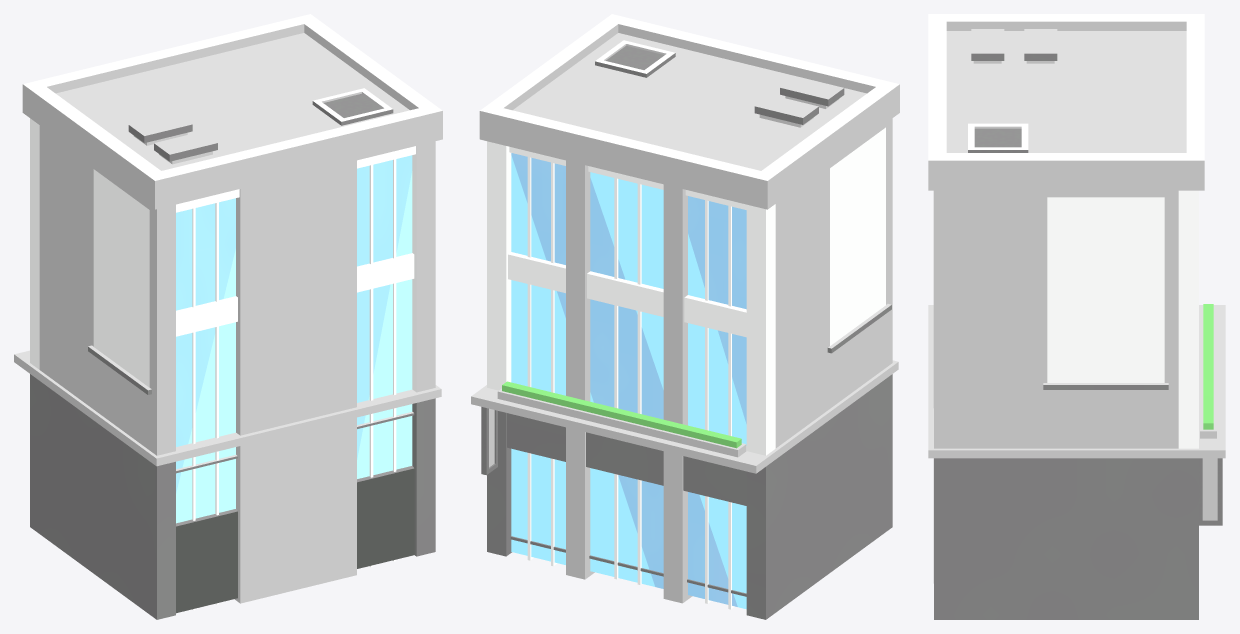
File: hotel.004.glb
The picture shows the model from 3 angles, left to right: view 1: azimuth 30°, elevation 25°; view 2: azimuth 150°, elevation 25°; view 3: azimuth 270°, elevation 25°; orthographic projection. The views are drawn at different scales.
Visible parts, largest first — view 1: hotel.004(Clone); view 2: hotel.004(Clone); view 3: hotel.004(Clone).
Boxes of the visible parts, x1,y1,x2,y2 form: hotel.004(Clone): (14,14,442,619); hotel.004(Clone): (471,14,899,619); hotel.004(Clone): (928,14,1225,619).
Bounding box in the file's own units: 5.97 × 8.89 × 5.11.
Materials: 1 (1 with a texture image).
